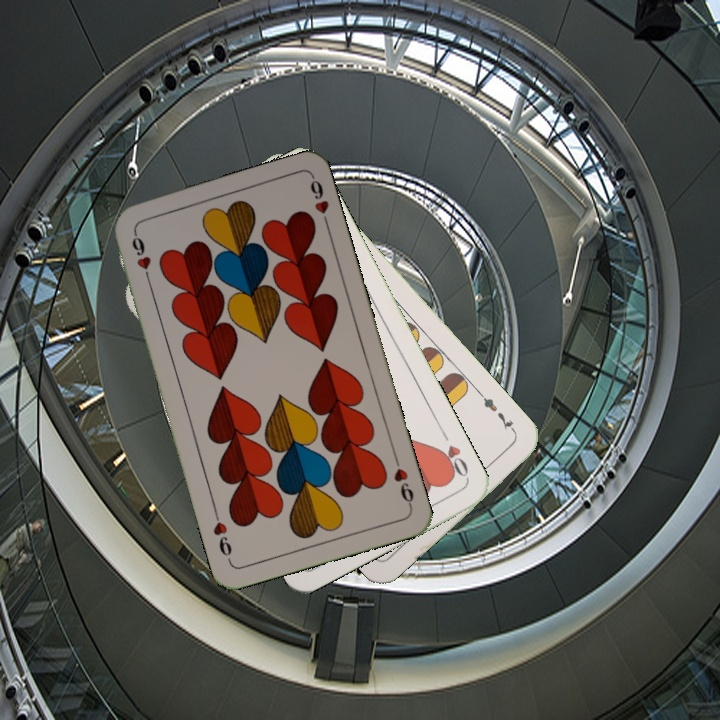E7: (475, 389, 520, 437)
H9: (389, 453, 417, 511), (127, 227, 154, 286)
HO: (434, 427, 471, 481)
